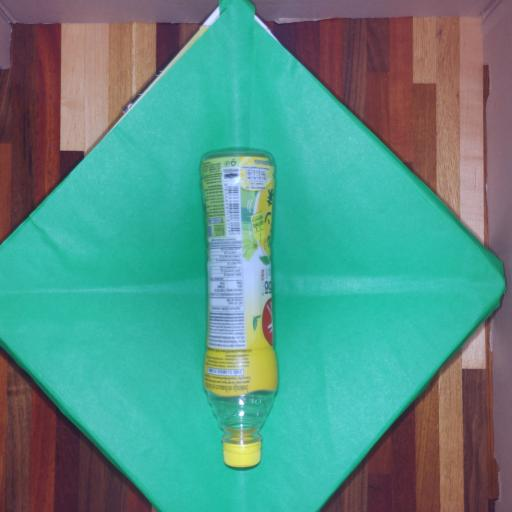bottle: (184, 125, 290, 484)
